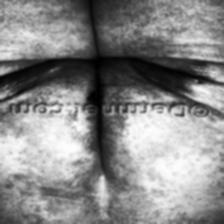Non-Cancerous Skin Condition: (47, 60, 145, 194)
